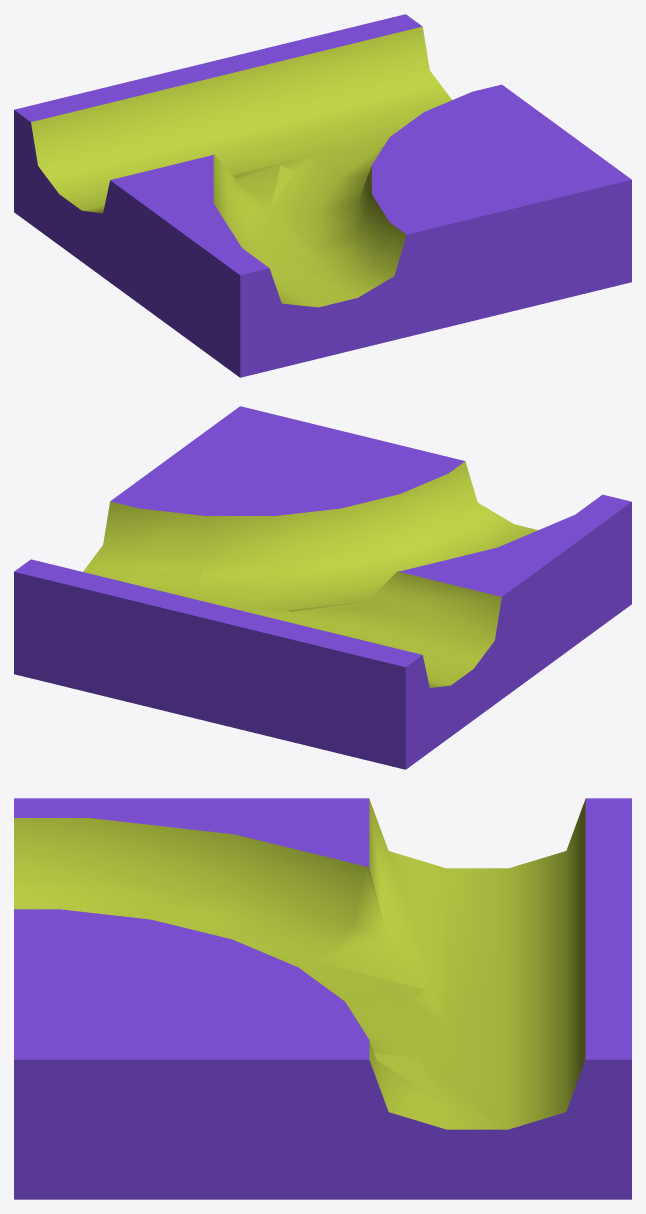
The model's file is split_solid_left-col.dae.
3 renders of one model, top to bottom at view 1: azimuth 30°, elevation 25°; view 2: azimuth 150°, elevation 25°; view 3: azimuth 270°, elevation 25°, orthographic. The views are drawn at different scales.
Visible parts, largest first — view 1: split_solid_left-col; view 2: split_solid_left-col; view 3: split_solid_left-col.
Part boxes in pixels (bbox=[...]): split_solid_left-col: bbox=[14, 14, 631, 377]; split_solid_left-col: bbox=[14, 406, 631, 769]; split_solid_left-col: bbox=[14, 798, 631, 1199].
Bounding box in the file's own units: 2 × 2 × 0.5.
